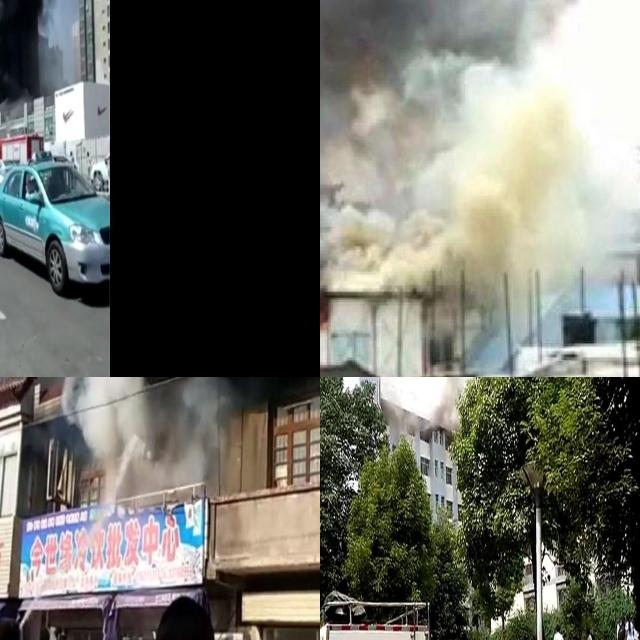smoke: (320, 0, 640, 281), (62, 377, 232, 503), (0, 0, 79, 129), (381, 377, 470, 436)
